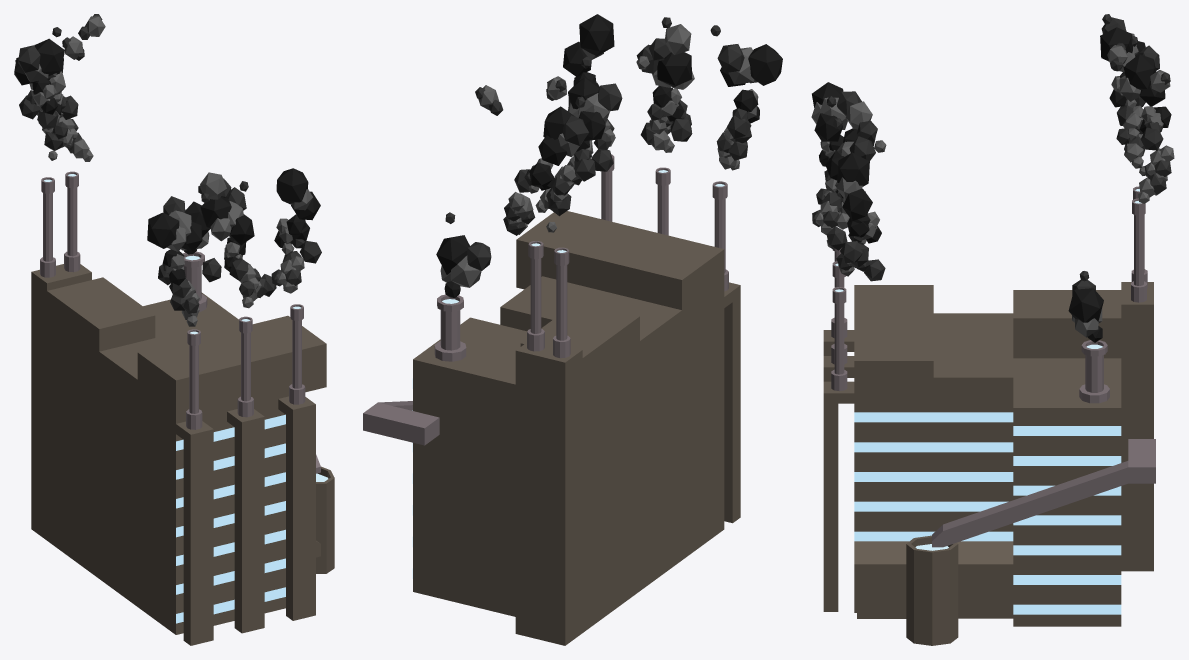
File: Lithium_Refinery.glb
3 renders of one model, left to right at view 1: azimuth 30°, elevation 25°; view 2: azimuth 150°, elevation 25°; view 3: azimuth 270°, elevation 25°, orthographic. The views are drawn at different scales.
Visible parts, largest first — view 1: Cube.010, Cube.004, Cube.009, Cube.003, Refinery (scaled and at origin).003, Cube.005, Cube.008, Plane.005, Cylinder.006, Cylinder.010, Cylinder.011, Cylinder.013 (+10 smaller); view 2: Cube.009, Cube.008, Refinery (scaled and at origin).003, Cube.003, Cube.004, Cube.005, Cube.010, Cube.013, Cylinder.009, Cylinder.010, Cylinder.012, Icosphere.132 (+11 smaller); view 3: Cube.009, Refinery (scaled and at origin).003, Cube.003, Cube.002, Cube.008, Plane.007, Plane.006, Cube.004, Cube.013, Cube.005, Cylinder.006, Cube.010 (+9 smaller).
Part boxes in pixels (<box>): Cube.010: <box>176,396,315,645</box>; Cube.004: <box>137,396,285,634</box>; Cube.009: <box>47,292,238,578</box>; Cube.003: <box>137,315,326,423</box>; Refinery (scaled and at origin).003: <box>99,321,235,606</box>; Cube.005: <box>47,277,155,367</box>; Cube.008: <box>31,264,91,540</box>; Plane.005: <box>176,414,285,623</box>; Cylinder.006: <box>316,466,334,573</box>; Cylinder.010: <box>64,171,80,272</box>; Cylinder.011: <box>237,316,253,417</box>; Cylinder.013: <box>289,304,305,404</box>; Cube.009: <box>413,317,639,632</box>; Cube.008: <box>515,341,582,645</box>; Refinery (scaled and at origin).003: <box>500,276,681,590</box>; Cube.003: <box>516,211,724,327</box>; Cube.004: <box>682,297,724,559</box>; Cube.005: <box>520,301,639,400</box>; Cube.010: <box>724,282,740,523</box>; Cube.013: <box>363,401,439,445</box>; Cylinder.009: <box>434,294,466,361</box>; Cylinder.010: <box>527,241,544,351</box>; Cylinder.012: <box>553,247,570,358</box>; Icosphere.132: <box>579,14,614,56</box>; Cube.009: <box>1013,358,1121,626</box>; Refinery (scaled and at origin).003: <box>933,313,1013,531</box>; Cube.003: <box>854,285,933,405</box>; Cube.002: <box>854,541,1013,618</box>; Cube.008: <box>1121,282,1153,571</box>; Plane.007: <box>854,412,1013,541</box>; Plane.006: <box>1013,426,1121,614</box>; Cube.004: <box>854,406,933,612</box>; Cube.013: <box>932,439,1155,547</box>; Cube.005: <box>1013,290,1121,358</box>; Cylinder.006: <box>906,535,958,645</box>; Cube.010: <box>823,330,854,611</box>.
Size of the model in its own units: 0.7573 by 1.62 by 0.9944.
